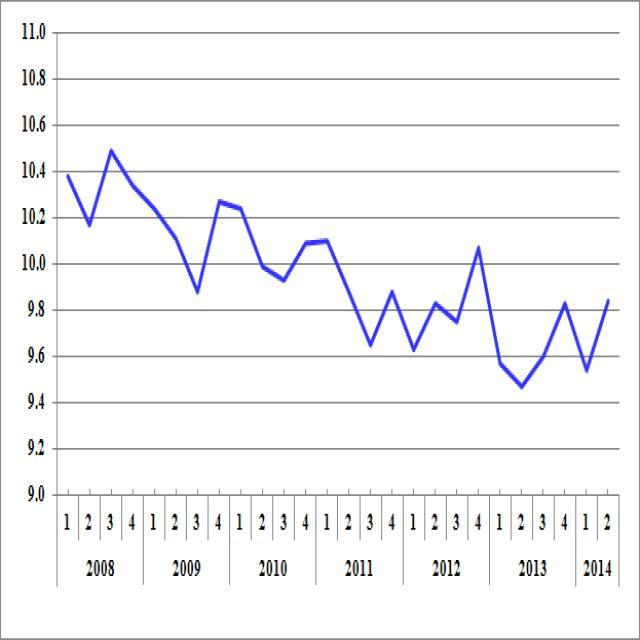axis: (51, 482, 627, 499), (50, 18, 61, 591)
line: (63, 140, 613, 392)
